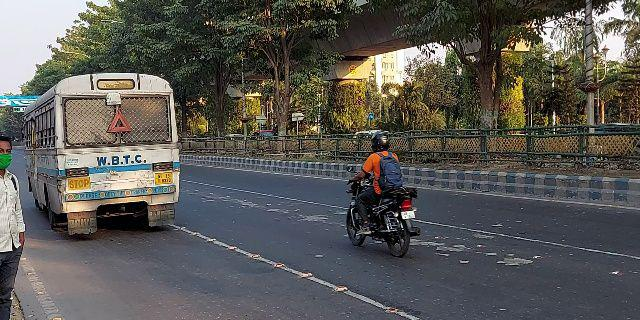Bus: (19, 70, 185, 236)
Motorbike: (336, 130, 420, 259)
